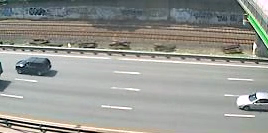car: (14, 53, 54, 80), (235, 90, 268, 113)
